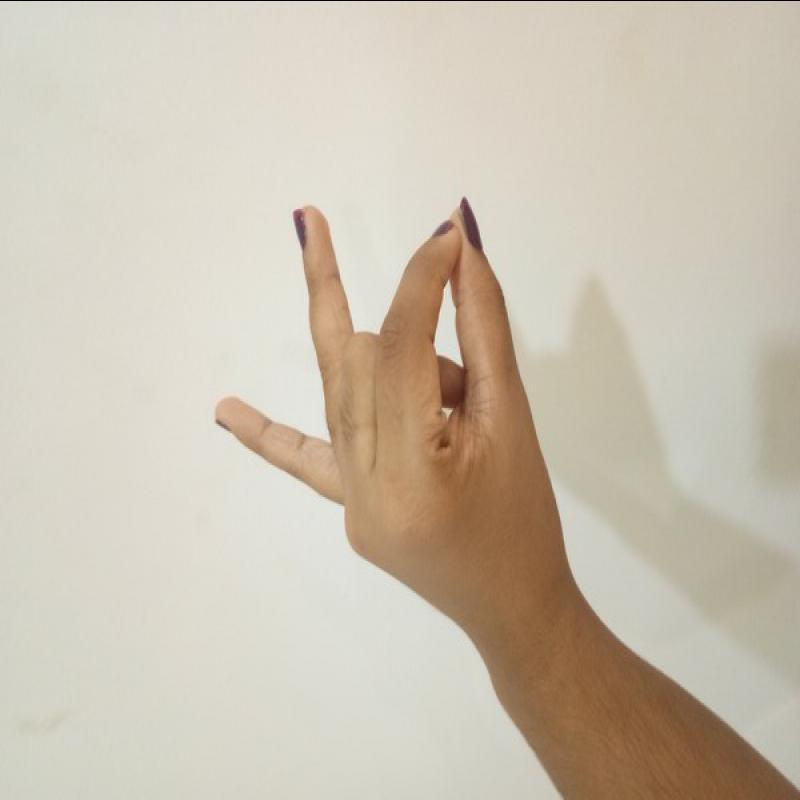Katakam: (193, 184, 583, 632)
